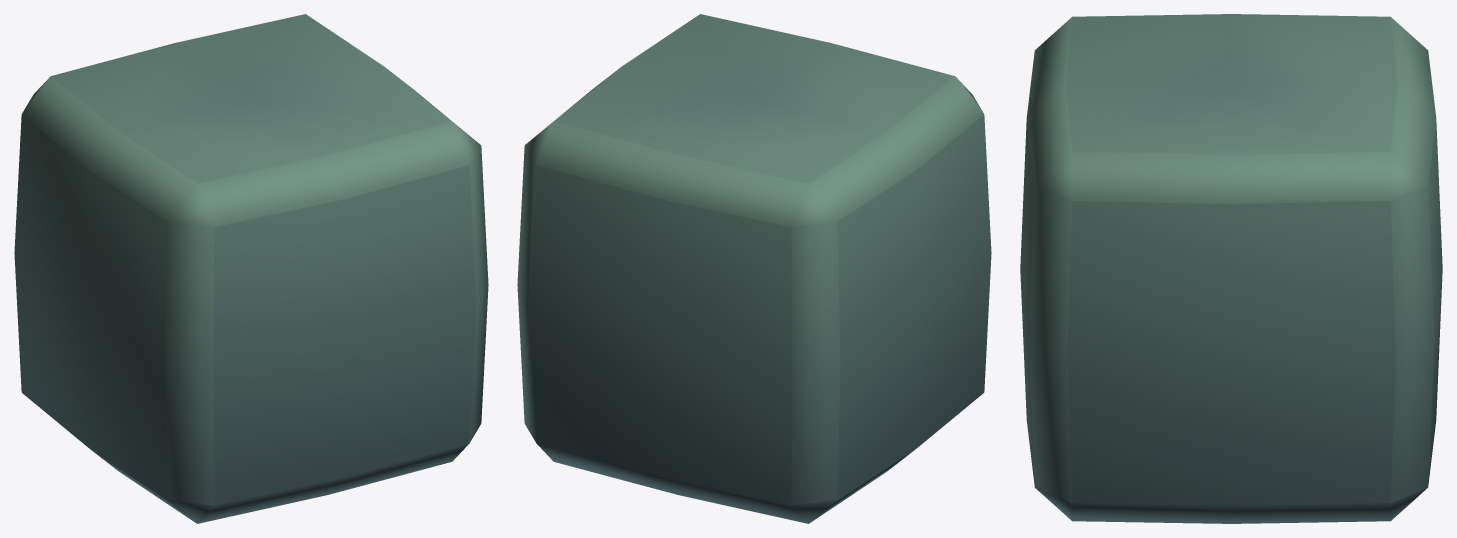
Rendered from cube_50cm_light.fbx.
3 renders of one model, left to right at view 1: azimuth 30°, elevation 25°; view 2: azimuth 150°, elevation 25°; view 3: azimuth 270°, elevation 25°, orthographic. The views are drawn at different scales.
Parts seen in each view (by area): view 1: cube_50cm_light; view 2: cube_50cm_light; view 3: cube_50cm_light.
Part boxes in pixels (x1,y1,x2,y2): cube_50cm_light: [14, 14, 488, 523]; cube_50cm_light: [517, 14, 991, 523]; cube_50cm_light: [1020, 14, 1442, 523].
Bounding box in the file's own units: 56.86 × 55.02 × 57.01.
